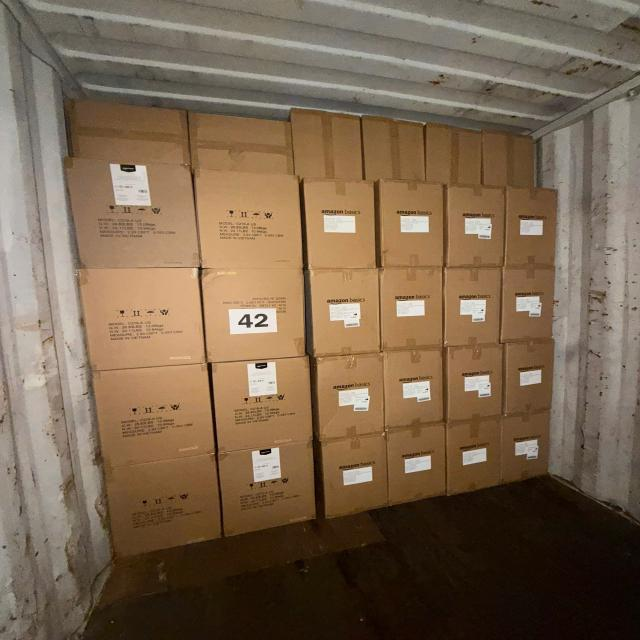Carton: (65, 164, 200, 273), (80, 264, 208, 369), (95, 365, 212, 466), (108, 453, 222, 553), (194, 171, 301, 271), (205, 265, 309, 361), (210, 357, 312, 448), (221, 439, 318, 532), (67, 96, 193, 166), (305, 182, 378, 272), (310, 268, 383, 356), (195, 112, 294, 174), (380, 182, 447, 269), (317, 353, 386, 437), (320, 434, 388, 517), (293, 105, 366, 180), (378, 266, 442, 351), (386, 350, 447, 432), (389, 425, 449, 507), (449, 187, 507, 269), (446, 269, 504, 349), (444, 344, 503, 421), (507, 185, 561, 266), (449, 418, 503, 497), (365, 116, 427, 182), (500, 267, 554, 341), (506, 339, 557, 413), (500, 410, 550, 485), (425, 122, 481, 185), (481, 129, 535, 186)
